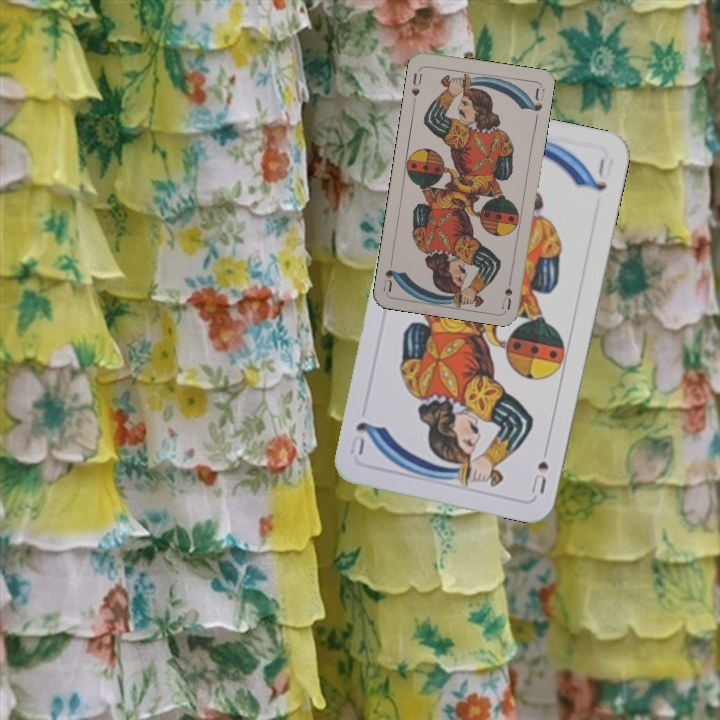SU: (527, 439, 551, 496), (407, 65, 425, 106), (498, 270, 515, 311)
